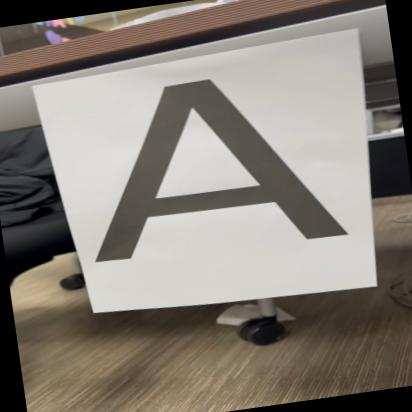seat: (65, 56, 350, 278)
